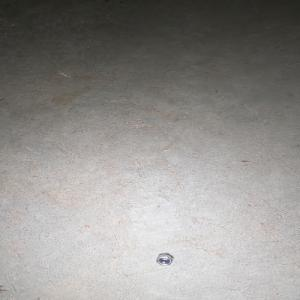Nut: (155, 253, 174, 265)
